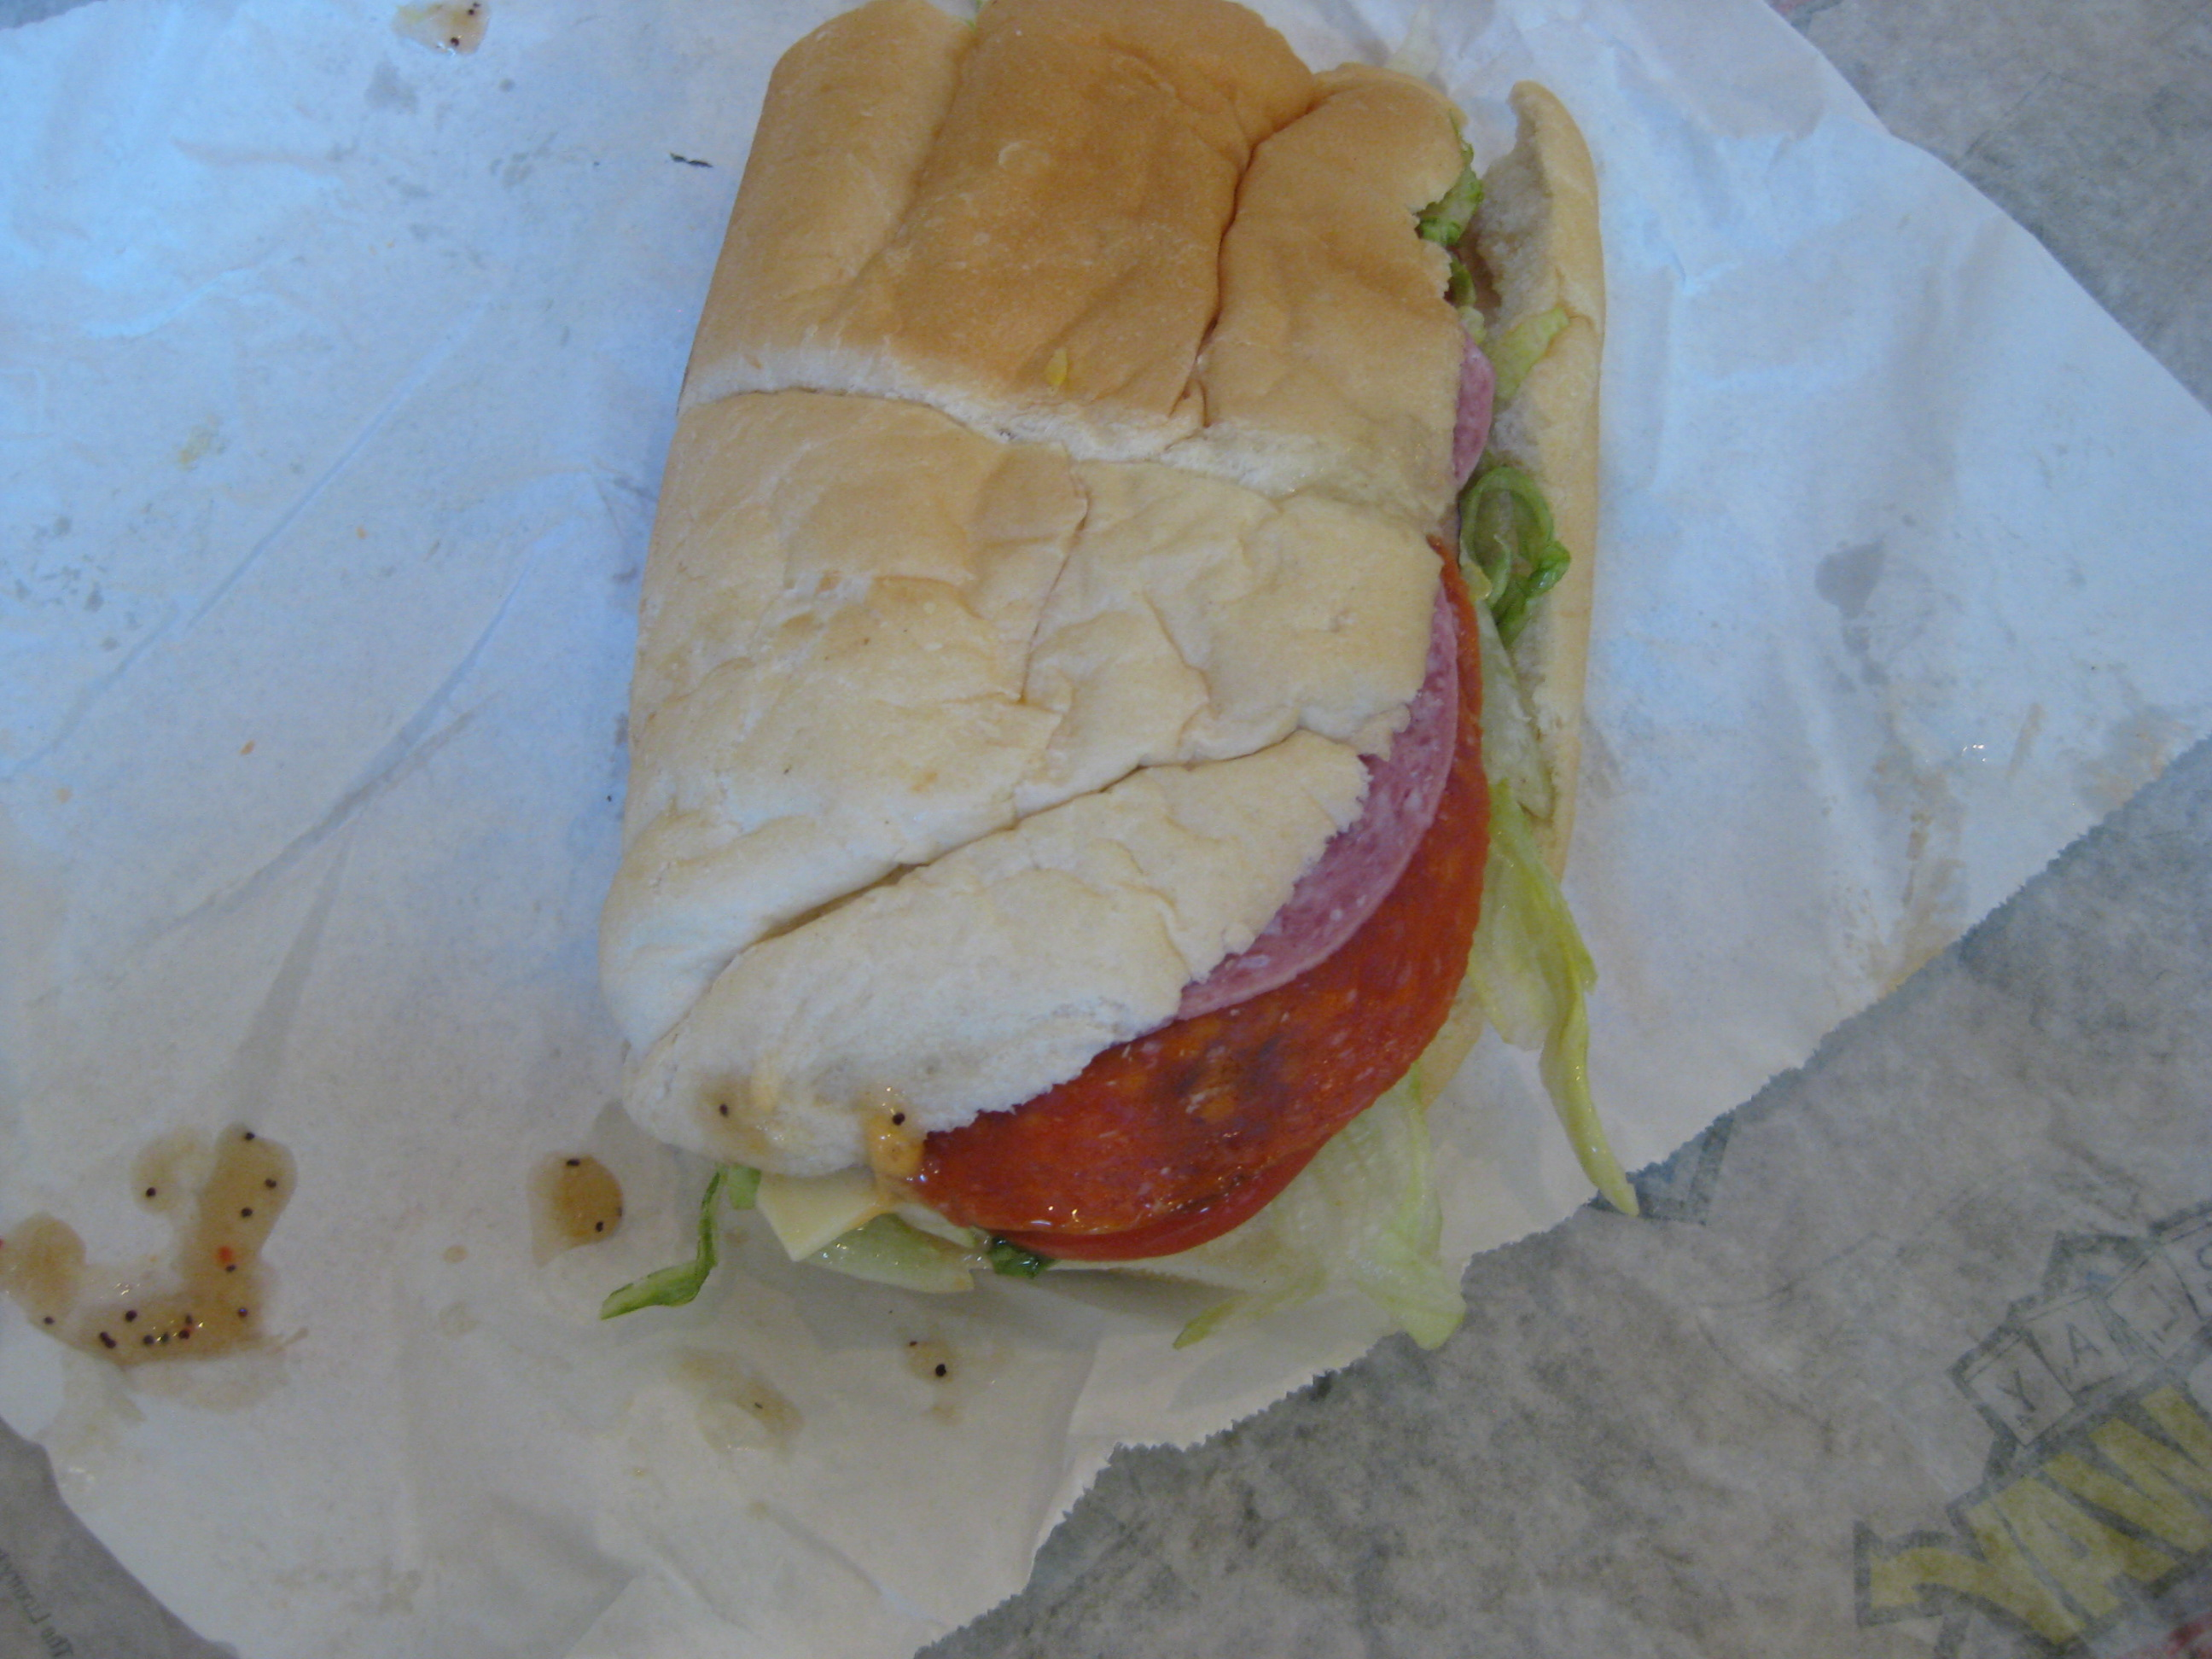sub: (595, 2, 1608, 1329)
